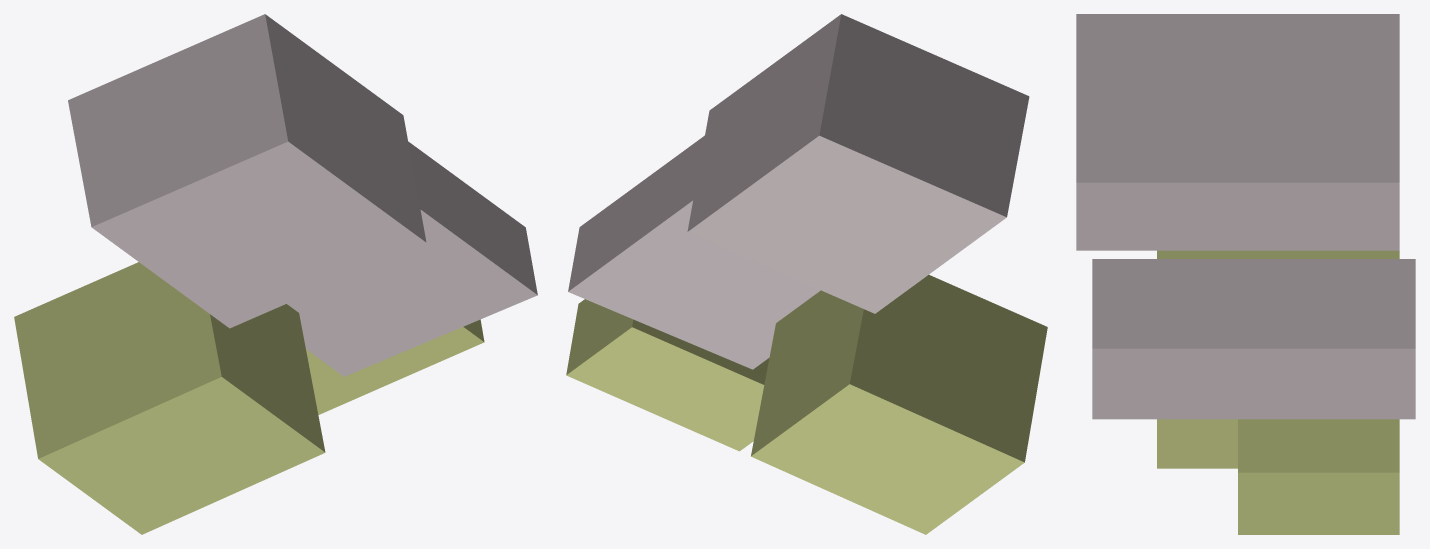
3 views of the same model, side by side, from view 1: azimuth 30°, elevation 25°; view 2: azimuth 150°, elevation 25°; view 3: azimuth 270°, elevation 25° (orthographic). The views are drawn at different scales.
Visible parts, largest first — view 1: 0_1_2_3_3_3_3_3_1_0; view 2: 0_1_2_3_3_3_3_3_1_0; view 3: 0_1_2_3_3_3_3_3_1_0.
Boxes of the visible parts, left/top/right/bottom form: 0_1_2_3_3_3_3_3_1_0: left=14, top=14, right=537, bottom=534; 0_1_2_3_3_3_3_3_1_0: left=566, top=14, right=1047, bottom=534; 0_1_2_3_3_3_3_3_1_0: left=1076, top=14, right=1415, bottom=534.
Bounding box in the file's own units: 20.1 × 18.65 × 12.6.
